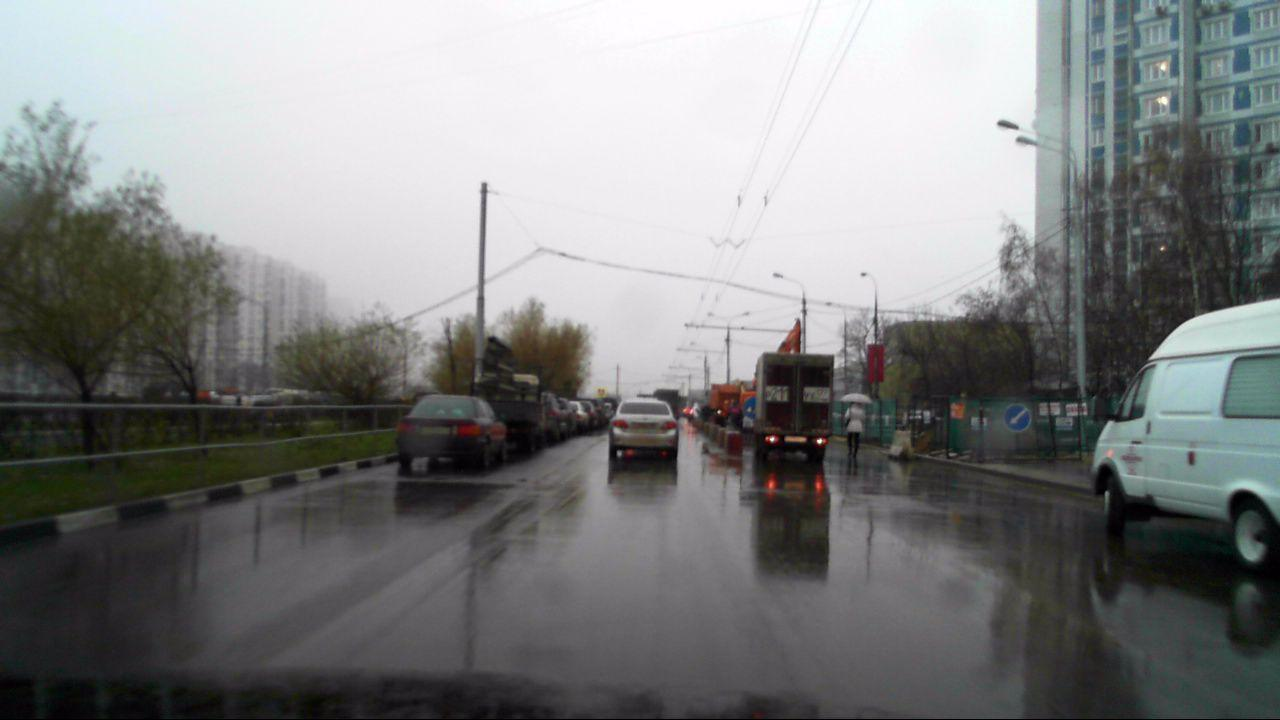4_2_2: (1004, 404, 1034, 431), (743, 396, 759, 417)
